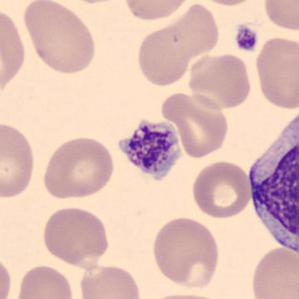Monocyte: (243, 101, 299, 262)
Platelets: (112, 113, 188, 188), (232, 24, 259, 54)
RBC: (21, 0, 99, 76), (149, 214, 223, 291), (39, 134, 117, 201), (158, 90, 231, 160), (40, 204, 111, 269), (136, 18, 198, 88), (186, 51, 254, 111), (189, 158, 254, 220), (156, 1, 222, 59), (252, 34, 299, 111), (0, 118, 37, 201), (0, 3, 29, 102), (248, 245, 298, 299), (77, 262, 143, 299), (12, 262, 77, 299), (121, 0, 193, 22), (260, 0, 299, 33), (141, 290, 226, 299), (0, 252, 14, 299), (192, 0, 262, 7)
